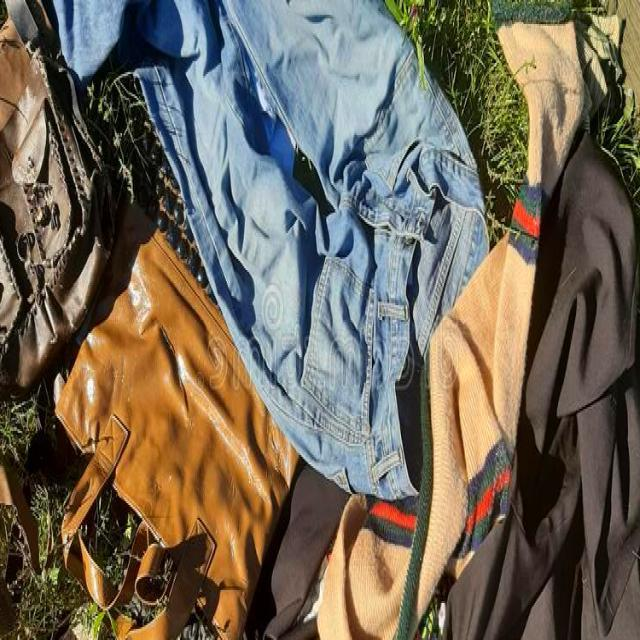clothes: (150, 89, 495, 640)
